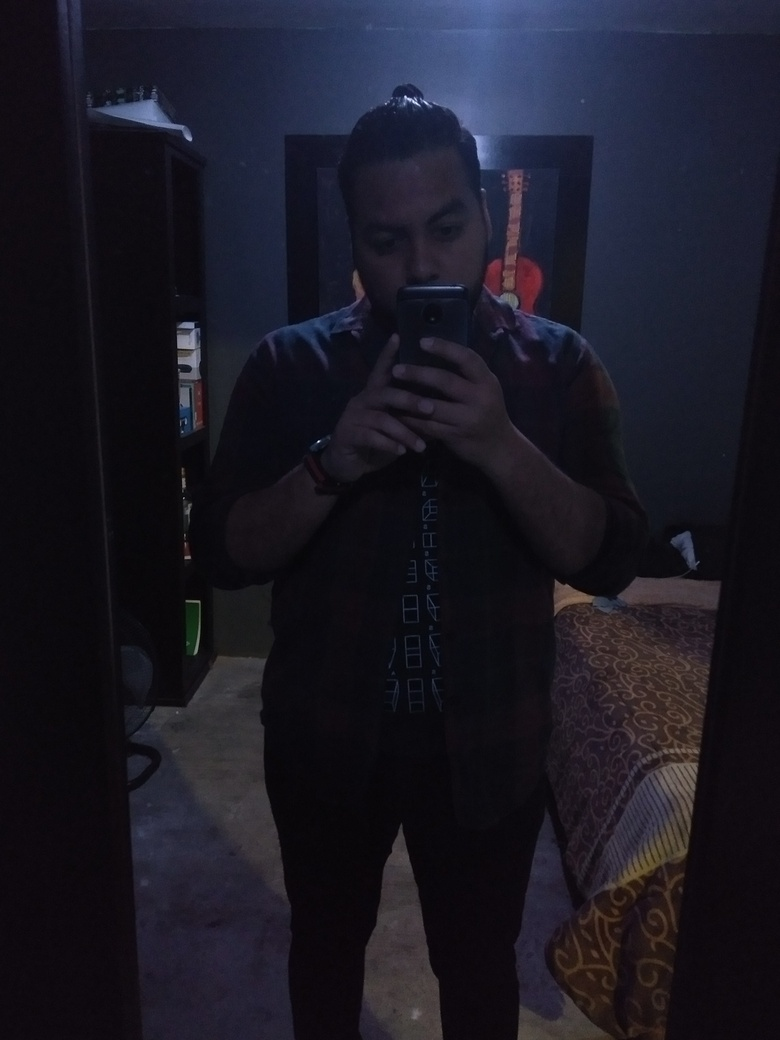Yoshi: (315, 98, 559, 358)
